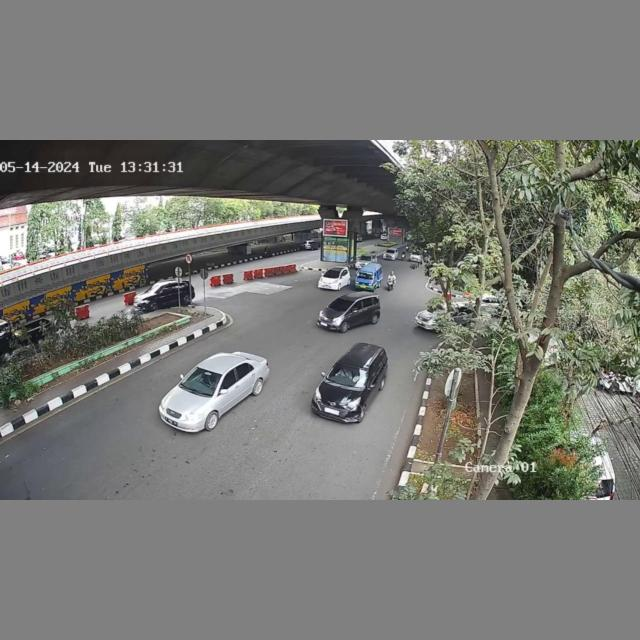windshield: (179, 365, 222, 397), (326, 361, 371, 387), (329, 297, 352, 312), (323, 269, 341, 278), (357, 272, 374, 280)
